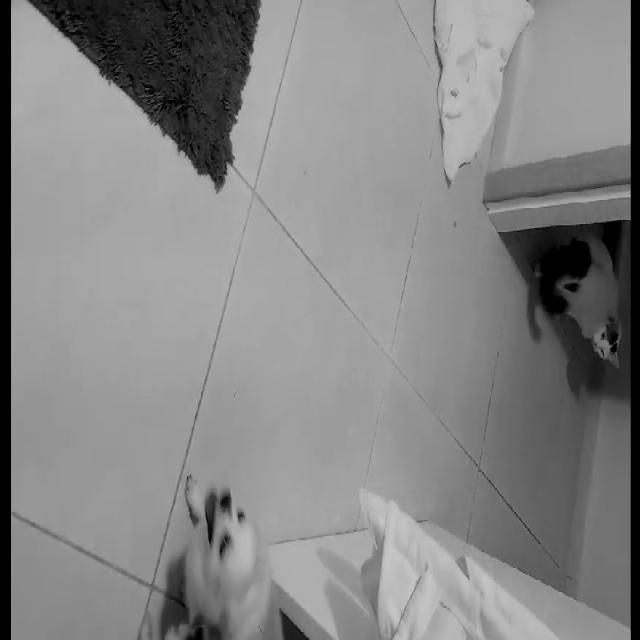Simba: (516, 227, 624, 379)
Theo: (141, 478, 296, 639)
